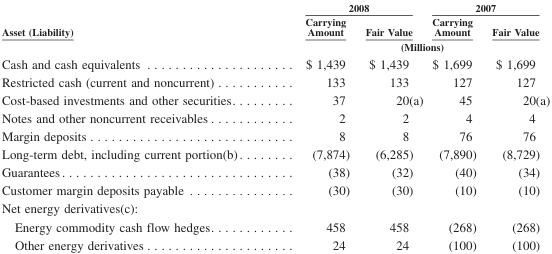table: (0, 1, 549, 251)
table column: (0, 1, 273, 251), (273, 1, 356, 251), (356, 1, 426, 251), (483, 1, 549, 251), (426, 1, 483, 251)
table column header: (0, 1, 549, 54)
table projected row header: (0, 199, 549, 217)
table row: (0, 14, 549, 38), (0, 180, 549, 199), (0, 54, 549, 72), (0, 72, 549, 90), (0, 90, 549, 108), (0, 108, 549, 126), (0, 126, 549, 144), (0, 144, 549, 162), (0, 162, 549, 180), (0, 199, 549, 217), (0, 217, 549, 235), (0, 38, 549, 54), (0, 235, 549, 251), (0, 1, 549, 14)
table spanning cell: (0, 1, 273, 54), (273, 38, 549, 54), (273, 1, 426, 14), (426, 1, 549, 14)
